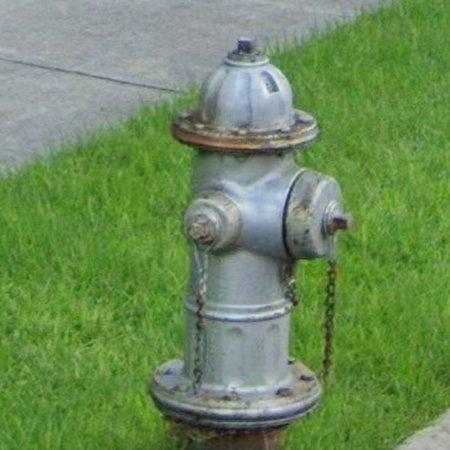a fire hydrant: (152, 39, 350, 430)
